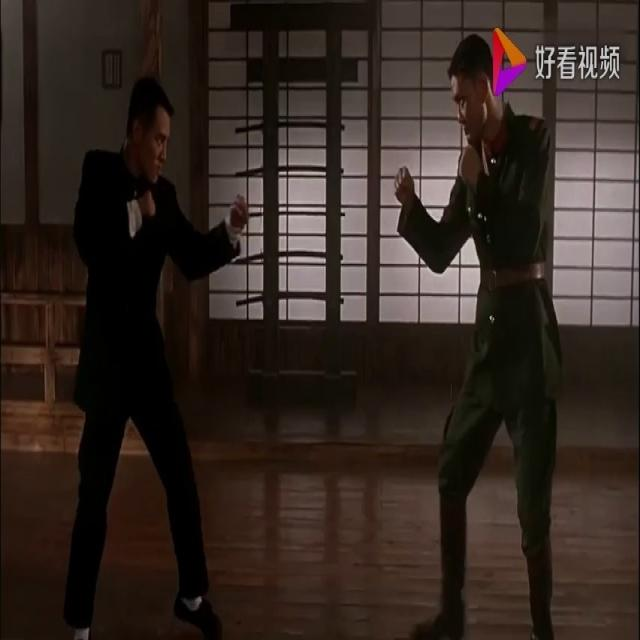fight: (67, 78, 248, 640), (396, 33, 558, 640)
